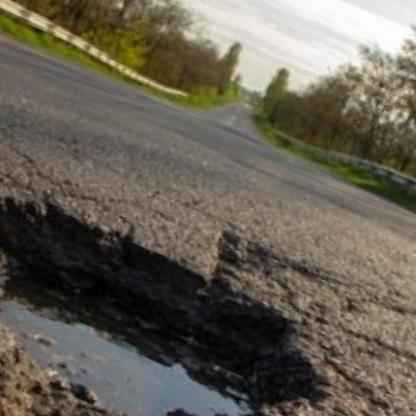pothole: (0, 152, 356, 416)
